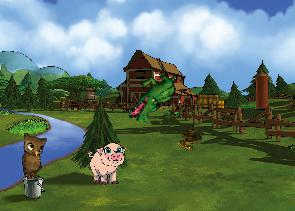crocodile: (126, 62, 181, 130)
owl: (18, 130, 52, 180)
pig: (88, 143, 126, 185)
